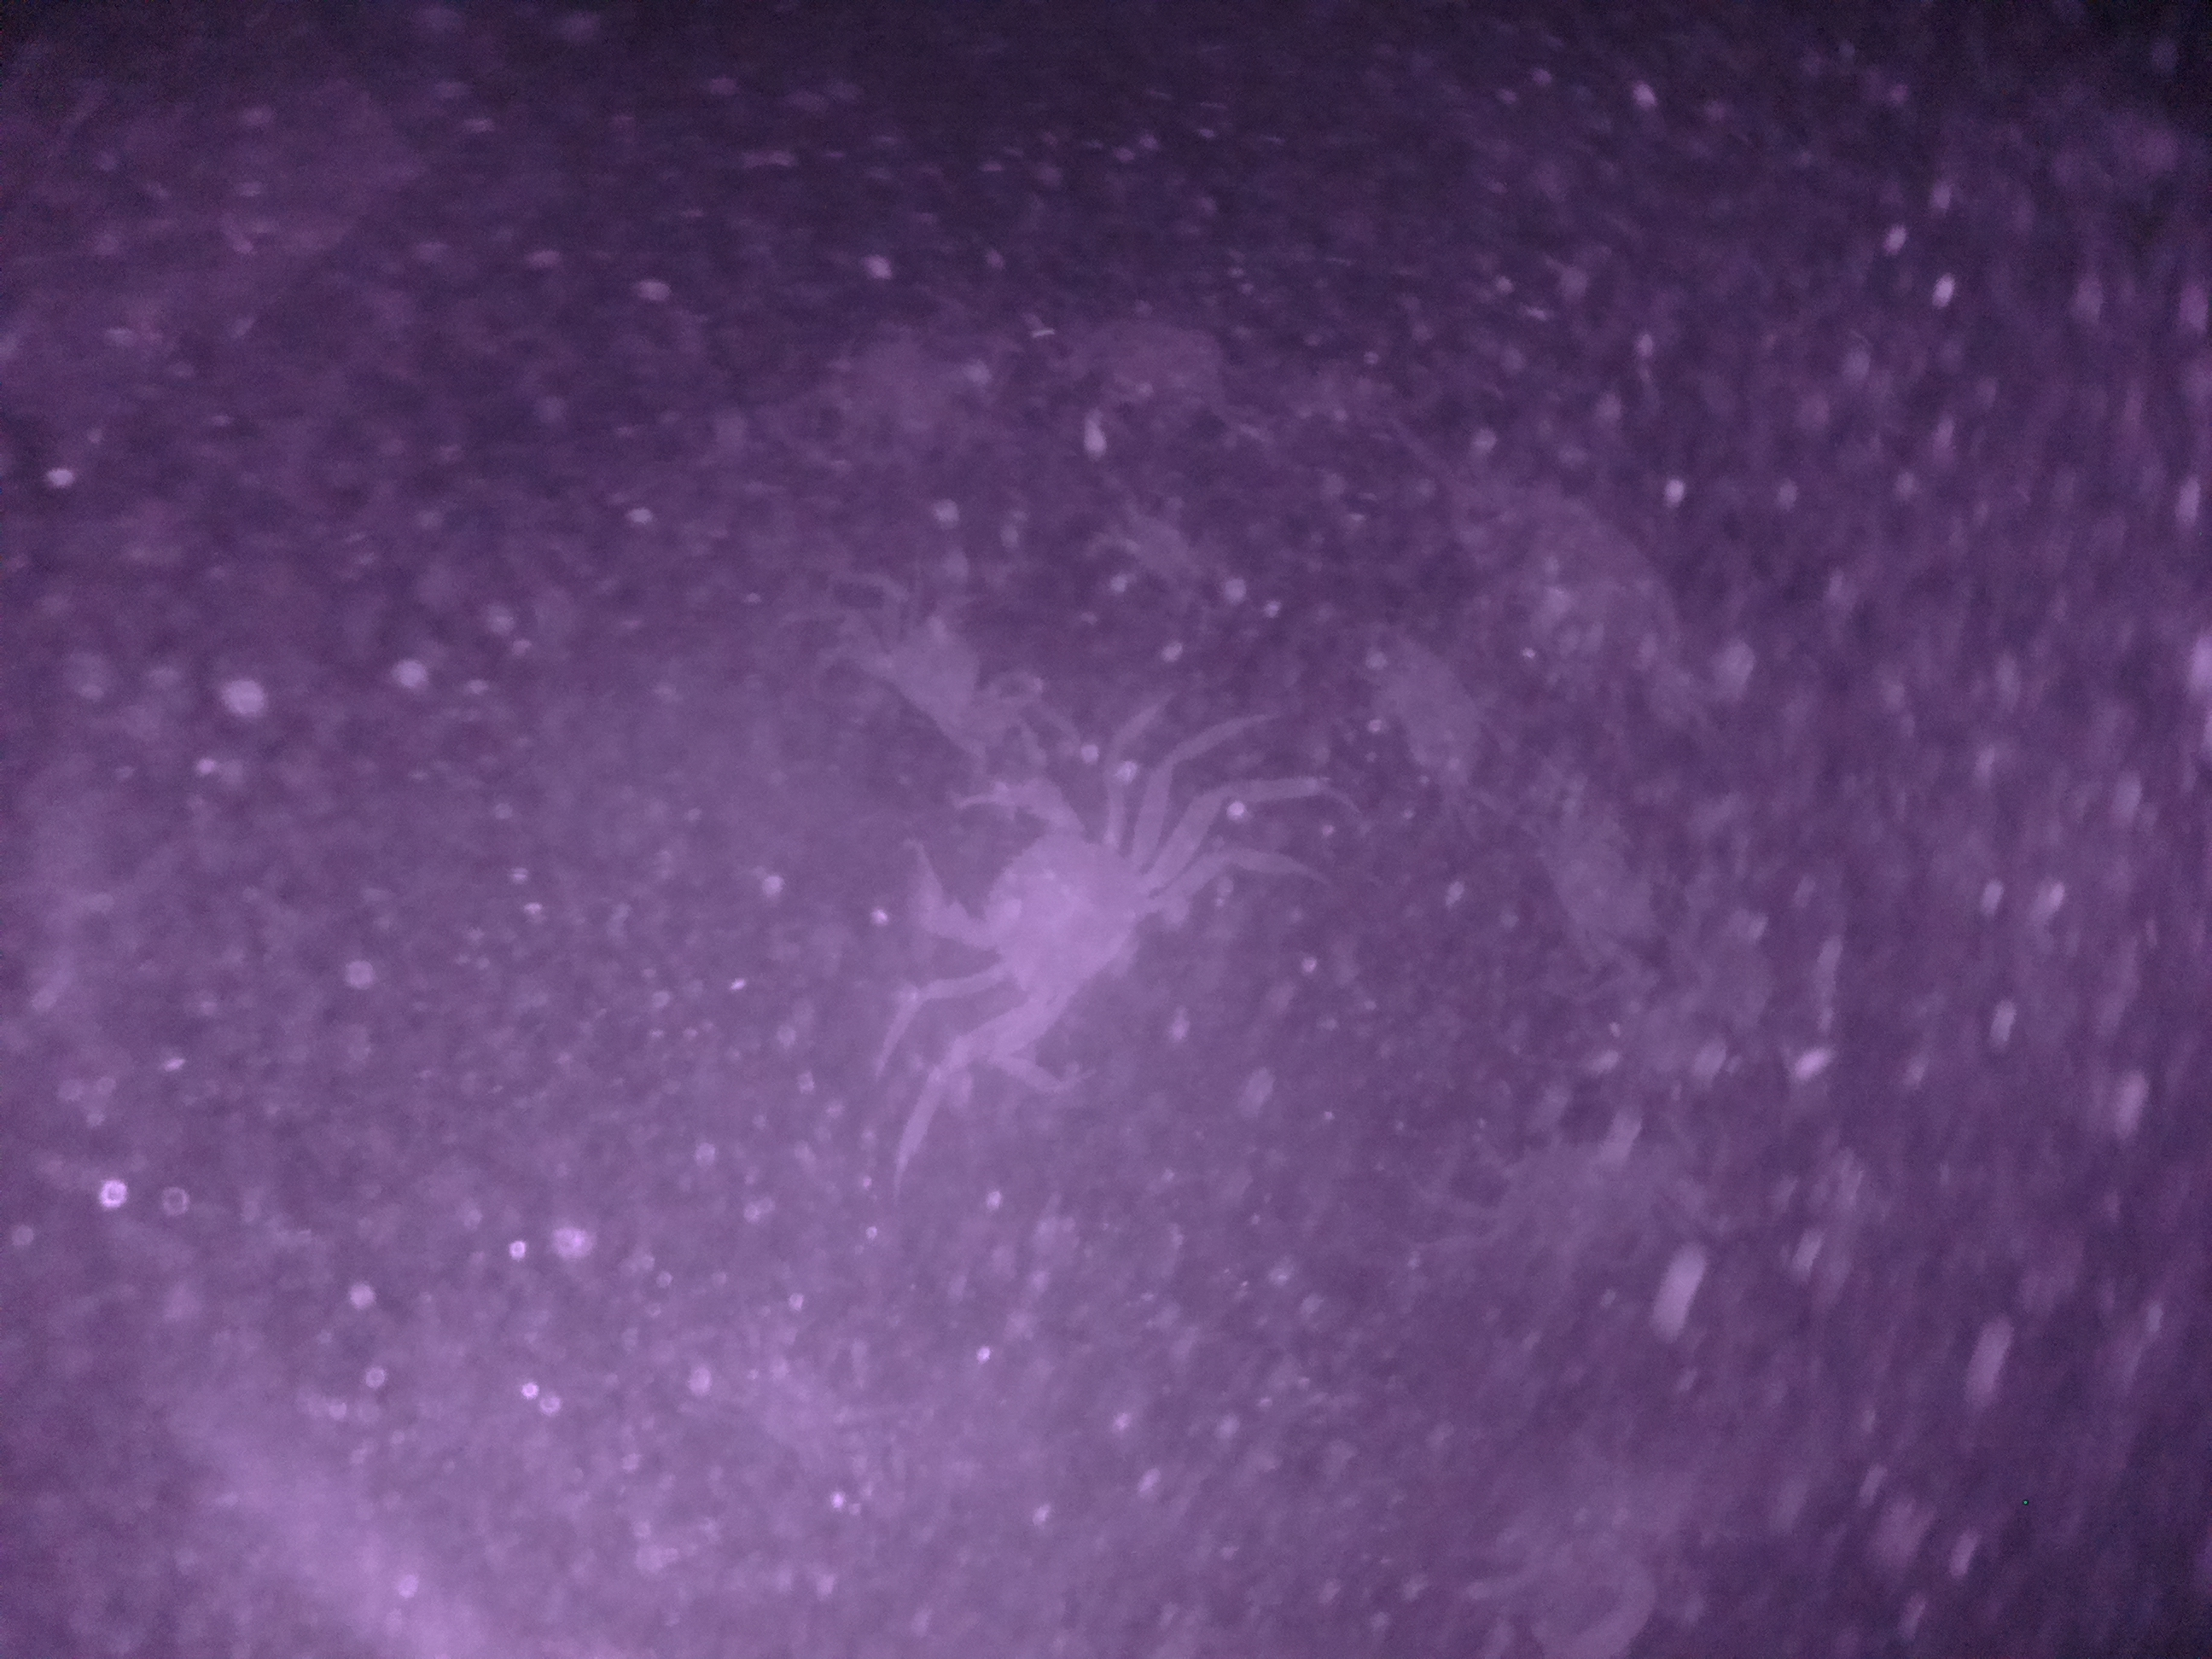Crab: (831, 575, 1049, 788)
